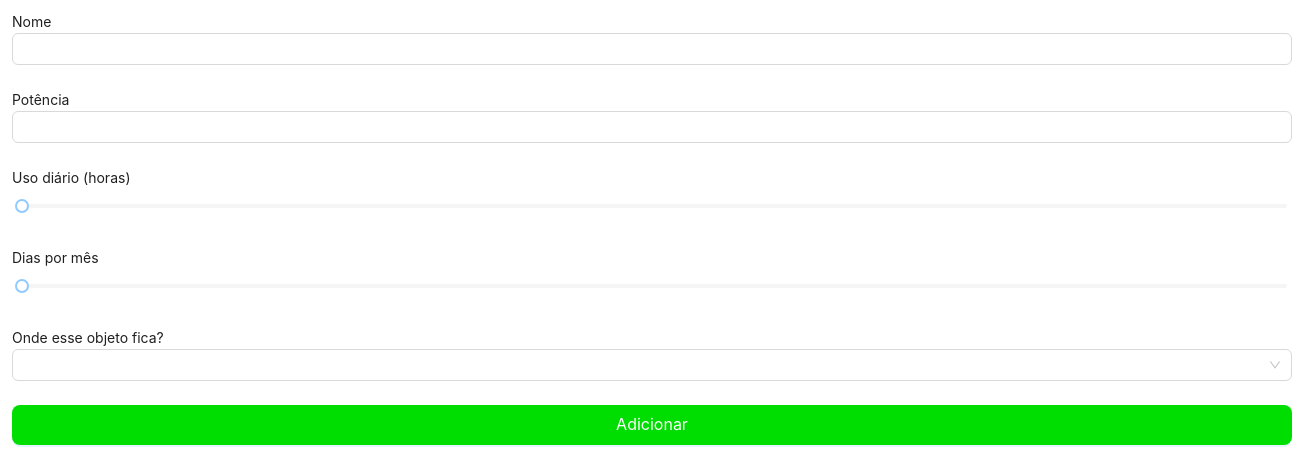
DeviceForm › should display input errors if inputs are not filled
The image size is (1304, 466).
Click the button with test id "submit-btn" at (652, 425), box [12, 405, 1292, 445]
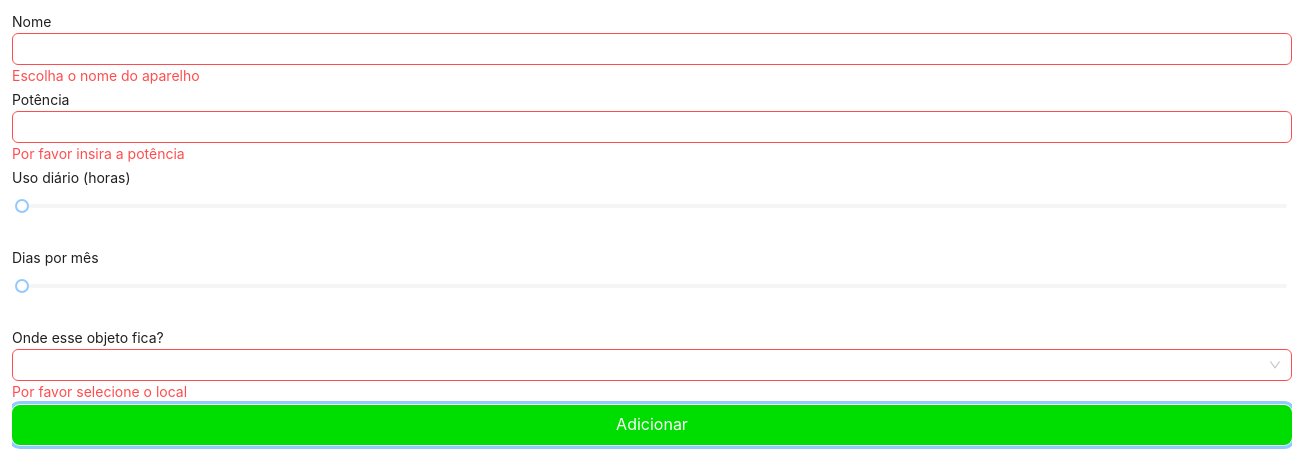
Result: the text "Por favor selecione o local" is shown at [12, 383, 187, 400]
Result: the text "Por favor insira a potência" is shown at [12, 145, 185, 162]
Result: the text "Escolha o nome do aparelho" is shown at [12, 67, 200, 84]
